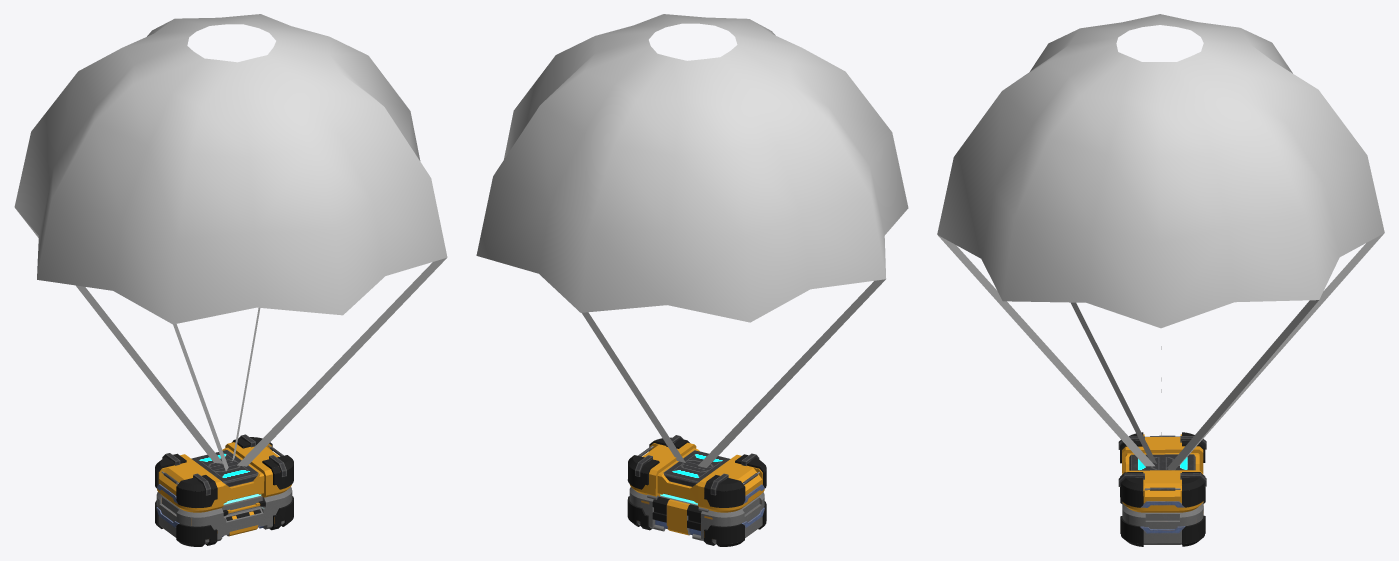
Rendered from gold.glb.
The picture shows the model from 3 angles, left to right: view 1: azimuth 30°, elevation 25°; view 2: azimuth 150°, elevation 25°; view 3: azimuth 270°, elevation 25°; orthographic projection.
Parts seen in each view (by area): view 1: parachute, airdrop; view 2: parachute, airdrop; view 3: parachute, airdrop.
Boxes of the visible parts, x1=… form: parachute: x1=14, y1=14, x2=447, y2=471; airdrop: x1=155, y1=434, x2=293, y2=546; parachute: x1=476, y1=14, x2=908, y2=467; airdrop: x1=627, y1=435, x2=766, y2=546; parachute: x1=937, y1=14, x2=1384, y2=470; airdrop: x1=1118, y1=432, x2=1206, y2=546.
Size of the model in its own units: 275 by 326 by 275.
1 material, 1 textured.
